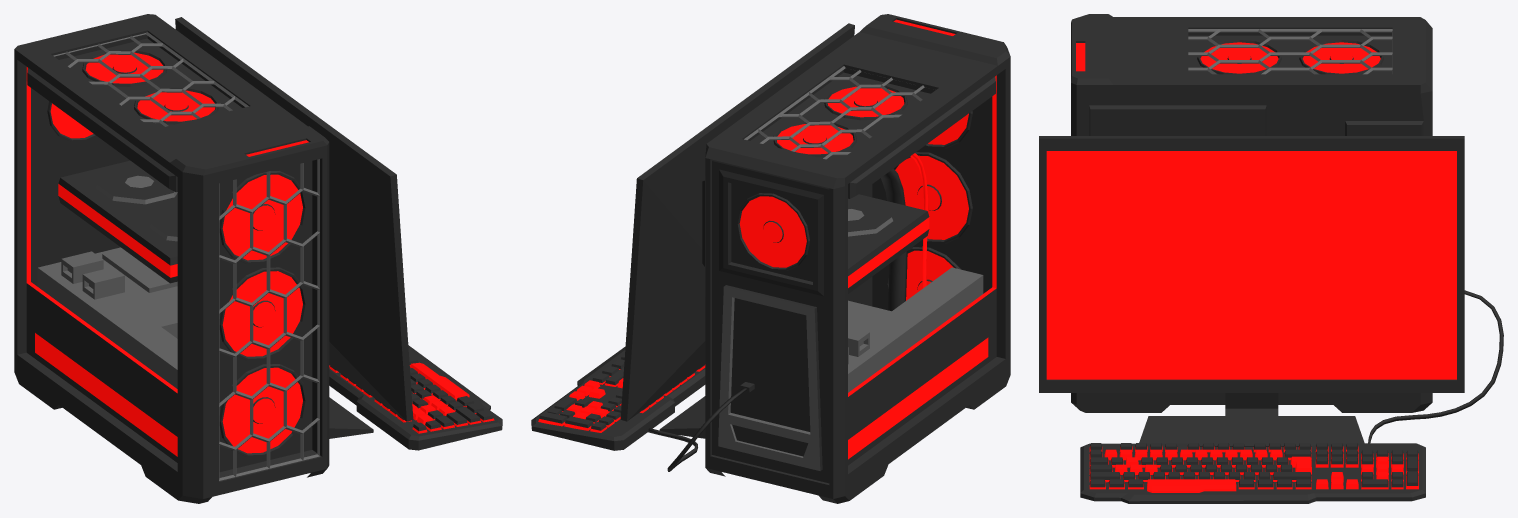
The model's file is PC Tower.fbx.
3 views of the same model, side by side, from view 1: azimuth 30°, elevation 25°; view 2: azimuth 150°, elevation 25°; view 3: azimuth 270°, elevation 25° (orthographic).
Parts seen in each view (by area): view 1: Cube, Monitor Stand, Circle, Cube.001, Plane.003, Plane.001, Cube.003, Circle.002, Keyboard, keys, Plane.002, Cylinder (+1 smaller); view 2: Cube, Monitor Stand, Plane.003, Cube.001, Circle, Circle.001, Keyboard, Circle.002, Cube.003, keys, Plane.002, BezierCurve.002 (+3 smaller); view 3: Monitor Stand, Cube, keys, Keyboard, Circle.002, Plane.002, BezierCurve.
Boxes of the visible parts, x1,y1,x2,y2 form: Cube: (14, 14, 329, 503); Monitor Stand: (175, 17, 413, 438); Circle: (219, 171, 306, 456); Cube.001: (37, 247, 177, 388); Plane.003: (31, 88, 129, 286); Plane.001: (219, 159, 319, 480); Cube.003: (58, 160, 177, 283); Circle.002: (82, 49, 218, 124); Keyboard: (329, 345, 502, 450); keys: (329, 355, 494, 433); Plane.002: (53, 32, 248, 126); Cylinder: (95, 164, 177, 241); Cube: (702, 14, 1010, 503); Monitor Stand: (620, 23, 854, 438); Plane.003: (848, 96, 992, 310); Cube.001: (848, 267, 983, 392); Circle: (886, 111, 972, 300); Circle.001: (736, 193, 809, 270); Keyboard: (531, 346, 705, 450); Circle.002: (773, 83, 907, 157); Cube.003: (848, 194, 929, 293); keys: (538, 355, 705, 432); Plane.002: (744, 66, 924, 159); BezierCurve.002: (881, 168, 907, 311); Monitor Stand: (1039, 136, 1464, 446); Cube: (1071, 14, 1432, 412); keys: (1089, 443, 1418, 492); Keyboard: (1080, 443, 1425, 503); Circle.002: (1197, 39, 1383, 74); Plane.002: (1188, 29, 1392, 74); BezierCurve: (1368, 290, 1503, 443).
Size of the model in its own units: 373 by 367 by 462.
